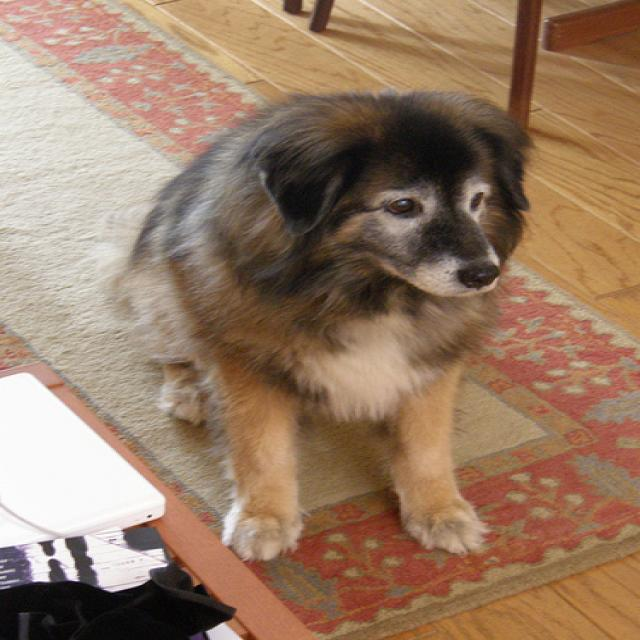dog-leonberger: (108, 84, 541, 563)
